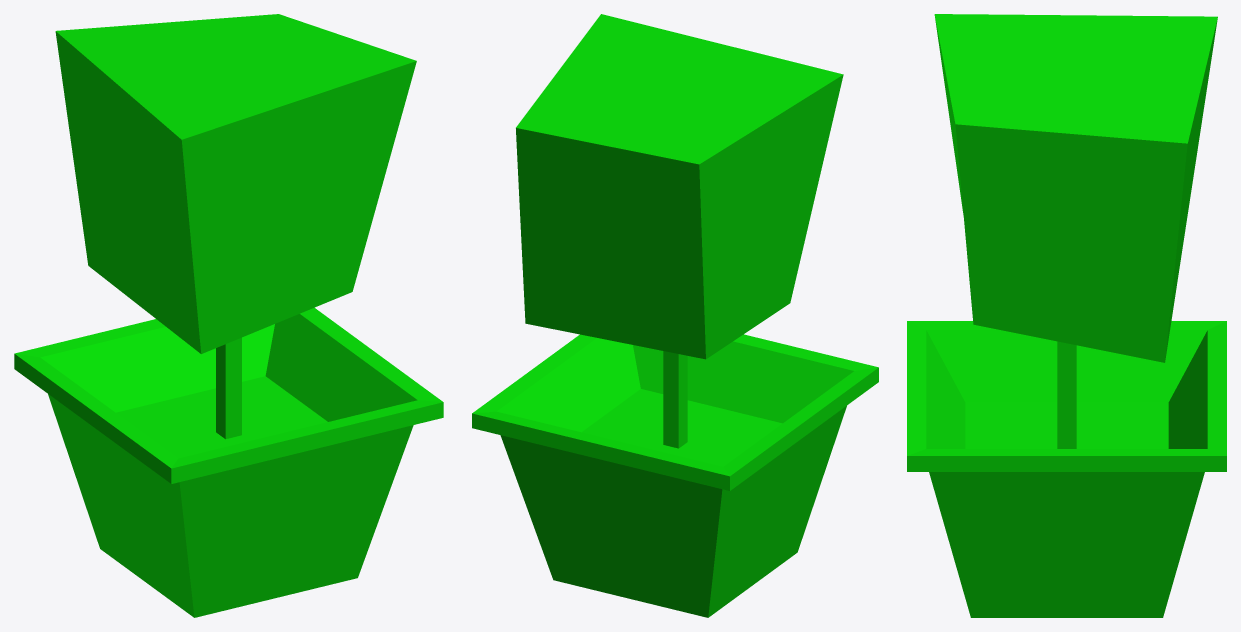
Rendered from tree_pot.fbx.
3 views of the same model, side by side, from view 1: azimuth 30°, elevation 25°; view 2: azimuth 150°, elevation 25°; view 3: azimuth 270°, elevation 25° (orthographic). The views are drawn at different scales.
Parts seen in each view (by area): view 1: mini_tree; view 2: mini_tree; view 3: mini_tree.
Part boxes in pixels (left/top/right/bottom): mini_tree: left=14, top=14, right=443, bottom=617; mini_tree: left=472, top=14, right=878, bottom=617; mini_tree: left=907, top=14, right=1226, bottom=617.
Bounding box in the file's own units: 1.67 × 2.98 × 1.67.
